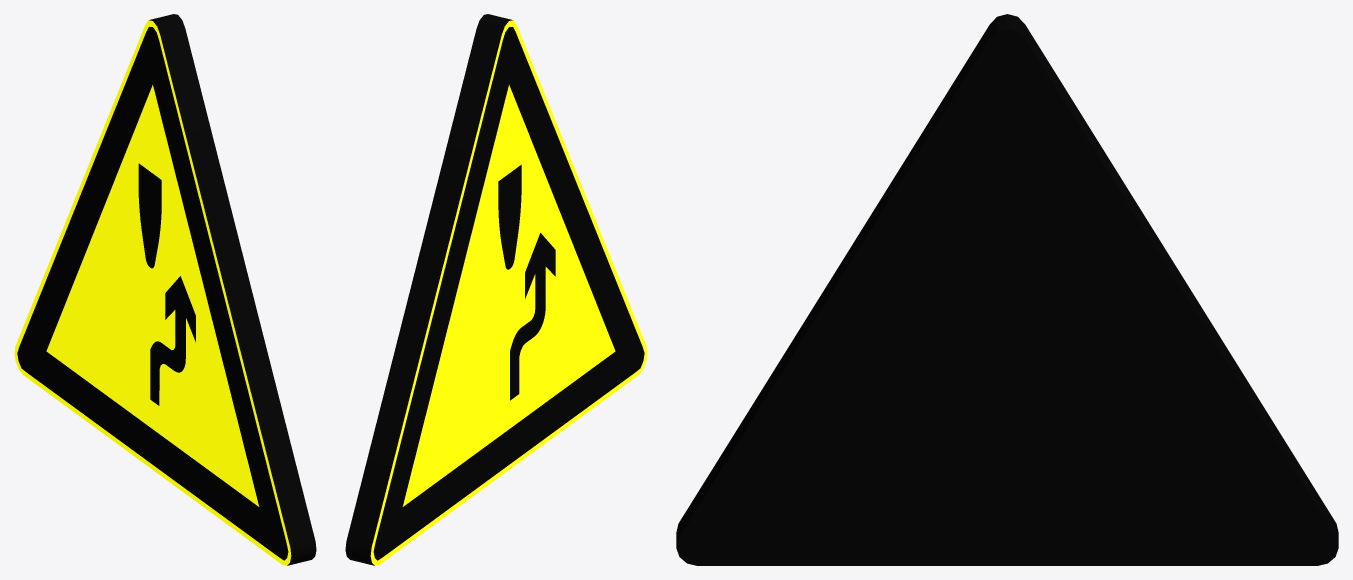
File: Detour_On_The_Right.glb
The picture shows the model from 3 angles, left to right: view 1: azimuth 30°, elevation 25°; view 2: azimuth 150°, elevation 25°; view 3: azimuth 270°, elevation 25°; orthographic projection. The views are drawn at different scales.
Visible parts, largest first — view 1: Detour_On_The_Right; view 2: Detour_On_The_Right; view 3: Detour_On_The_Right.
Boxes of the visible parts, x1,y1,x2,y2 form: Detour_On_The_Right: (14,14,316,565); Detour_On_The_Right: (345,14,647,565); Detour_On_The_Right: (676,14,1338,565).
Size of the model in its own units: 0.0643 by 1.02 by 1.14.
